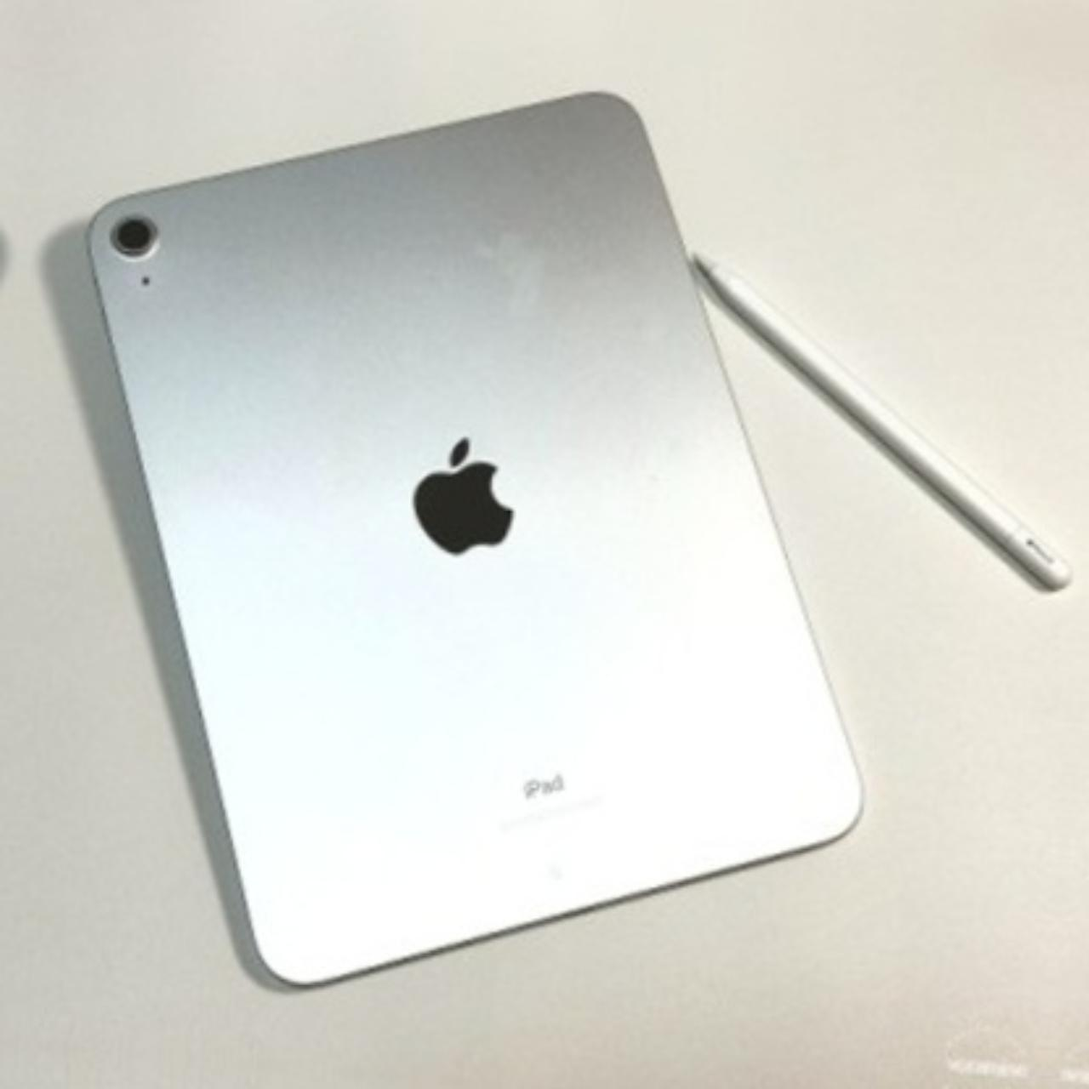Tablet_PC: (6, 37, 943, 1044)
